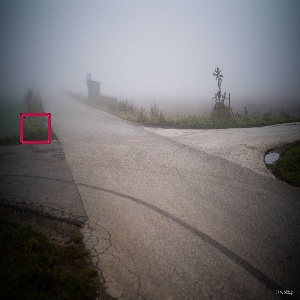square: (18, 111, 53, 147)
